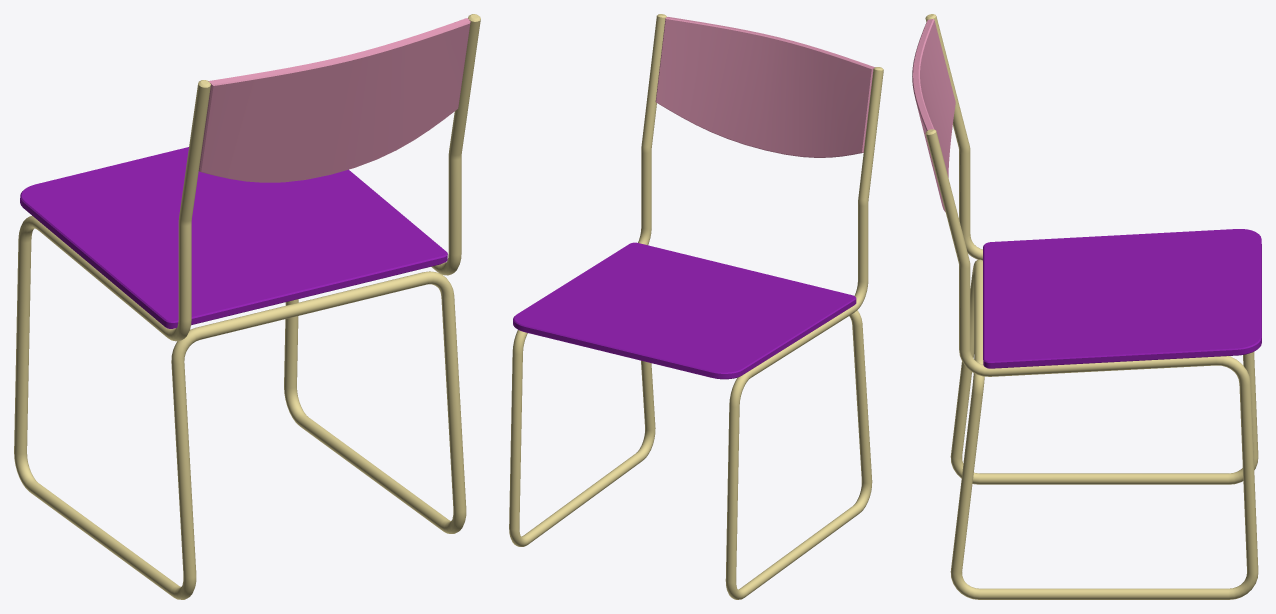
Rendered from Chair Clin.obj.
The picture shows the model from 3 angles, left to right: view 1: azimuth 30°, elevation 25°; view 2: azimuth 150°, elevation 25°; view 3: azimuth 270°, elevation 25°; orthographic projection. The views are drawn at different scales.
Visible parts, largest first — view 1: MOB_Cadeira_Clin_03, MOB_Cadeira_Clin_04, MOB_Cadeira_Clin_02; view 2: MOB_Cadeira_Clin_03, MOB_Cadeira_Clin_02, MOB_Cadeira_Clin_04; view 3: MOB_Cadeira_Clin_03, MOB_Cadeira_Clin_04, MOB_Cadeira_Clin_02.
Boxes of the visible parts, x1,y1,x2,y2 form: MOB_Cadeira_Clin_03: [20, 147, 447, 328]; MOB_Cadeira_Clin_04: [14, 14, 480, 599]; MOB_Cadeira_Clin_02: [198, 18, 470, 182]; MOB_Cadeira_Clin_03: [513, 242, 856, 379]; MOB_Cadeira_Clin_02: [655, 17, 874, 157]; MOB_Cadeira_Clin_04: [509, 14, 883, 599]; MOB_Cadeira_Clin_03: [983, 229, 1261, 368]; MOB_Cadeira_Clin_04: [925, 14, 1258, 599]; MOB_Cadeira_Clin_02: [912, 19, 955, 211].
Bounding box in the file's own units: 50.15 × 91.14 × 61.53.
